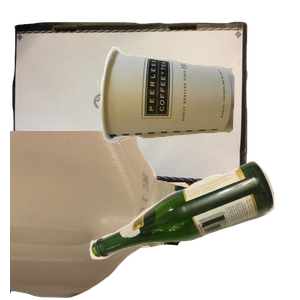cardboard: (10, 19, 250, 199)
glass: (87, 158, 300, 300)
plastic: (10, 131, 196, 300)
trash: (95, 44, 300, 180)
